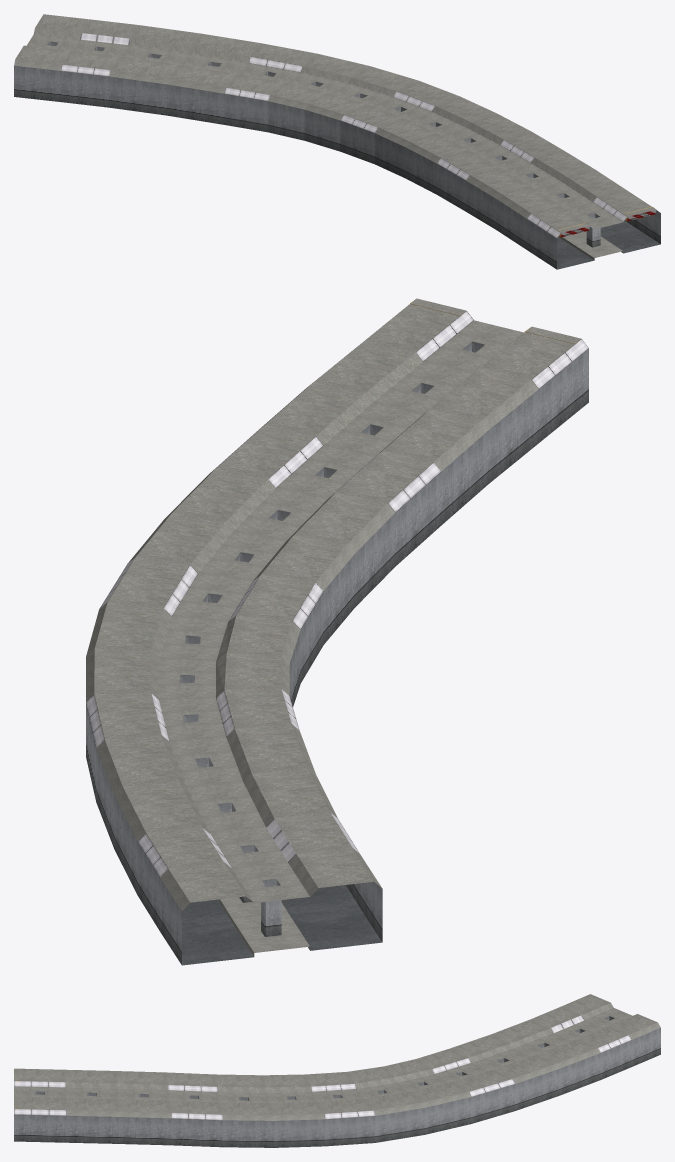
Rendered from aircarpark_09_sfse.obj.
3 renders of one model, top to bottom at view 1: azimuth 30°, elevation 25°; view 2: azimuth 150°, elevation 25°; view 3: azimuth 270°, elevation 25°, orthographic. The views are drawn at different scales.
Parts seen in each view (by area): view 1: aircarpark_09_SFSe; view 2: aircarpark_09_SFSe; view 3: aircarpark_09_SFSe.
Boxes of the visible parts, left/top/right/bottom form: aircarpark_09_SFSe: left=14, top=14, right=660, bottom=269; aircarpark_09_SFSe: left=86, top=298, right=588, bottom=965; aircarpark_09_SFSe: left=14, top=994, right=660, bottom=1147.
Bounding box in the file's own units: 65.52 × 10.64 × 134.
5 materials, 5 textured.
